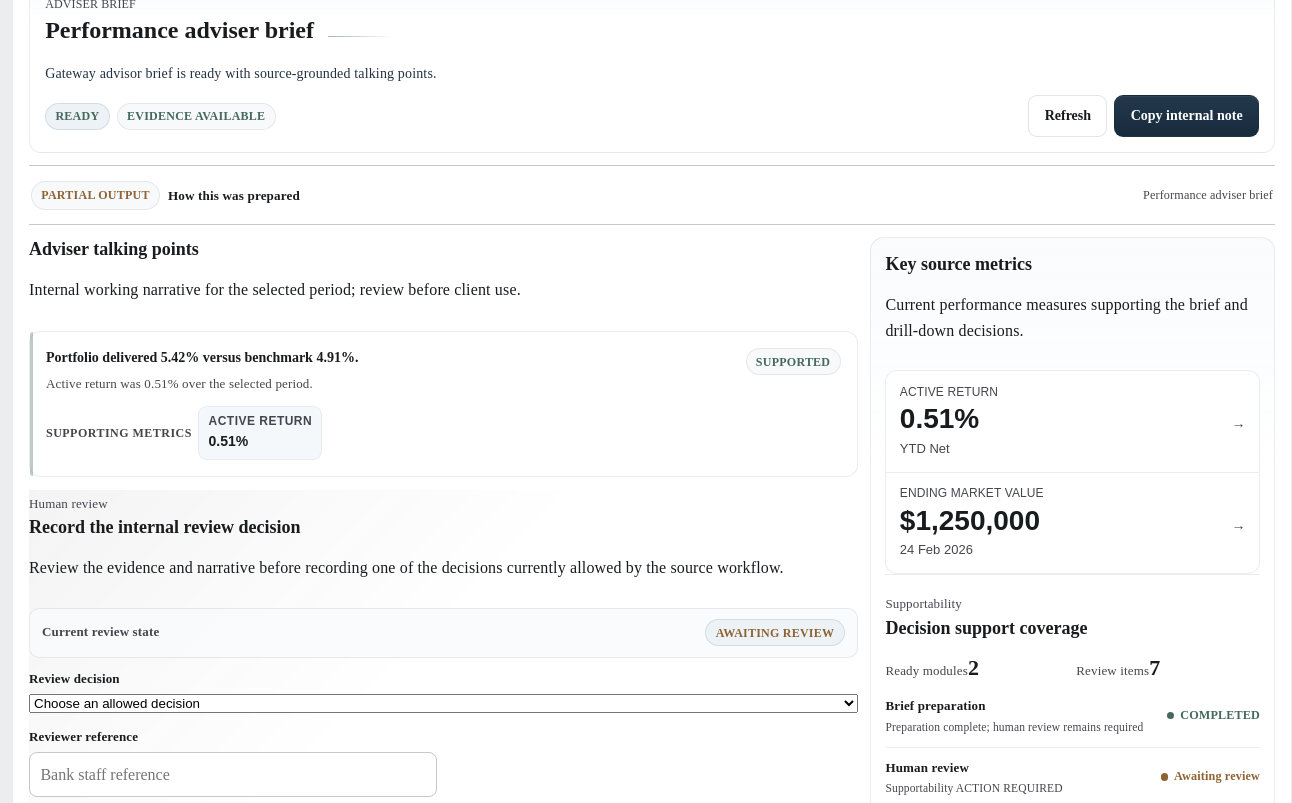
Test: PerformanceAdvisorBriefMode › records a bounded review action and refreshes the run posture in place
This screenshot has width=1292, height=803.
Select "Accept for internal use" in the dropdown labelled "Review decision" at (443, 704), box left=29, top=694, right=858, bottom=713
(page scrolled)
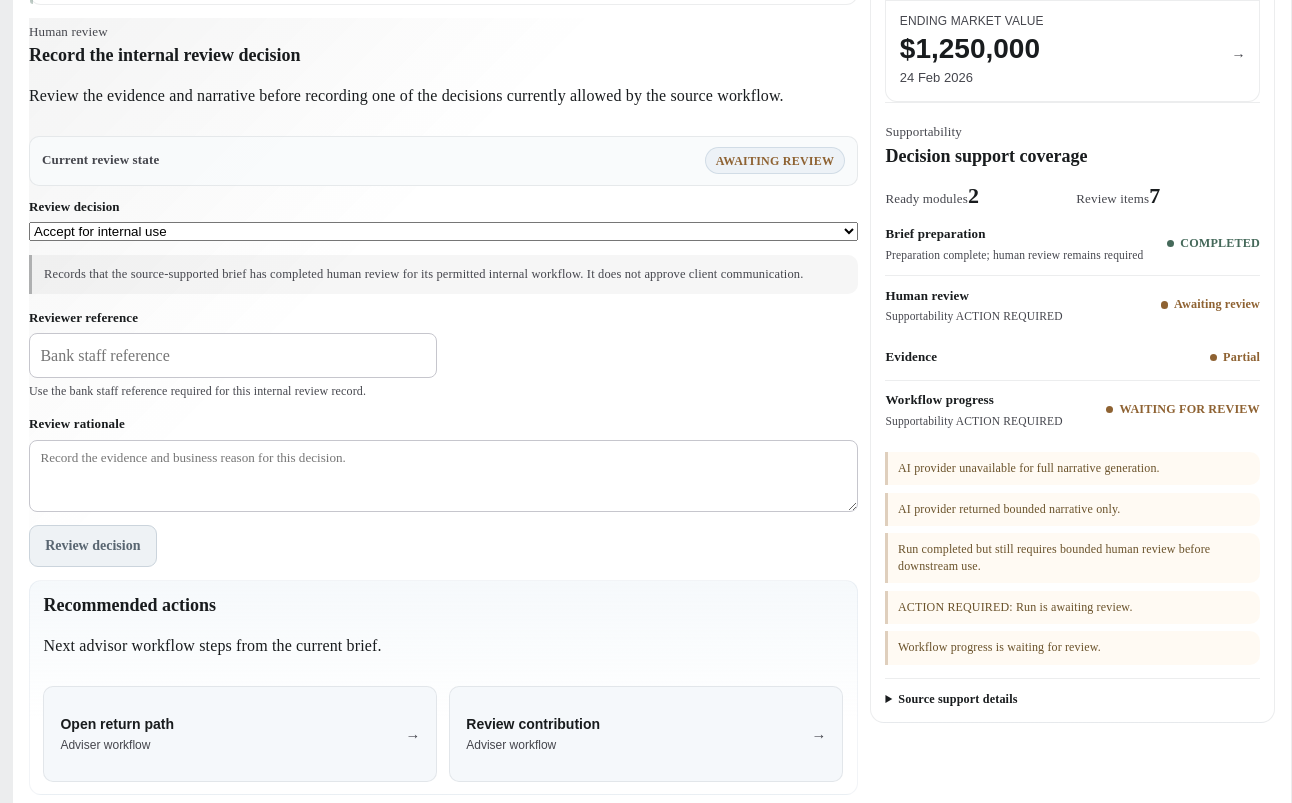
Type "advisor_1" into the field labelled "Reviewer reference" at (233, 356), box left=29, top=333, right=437, bottom=378
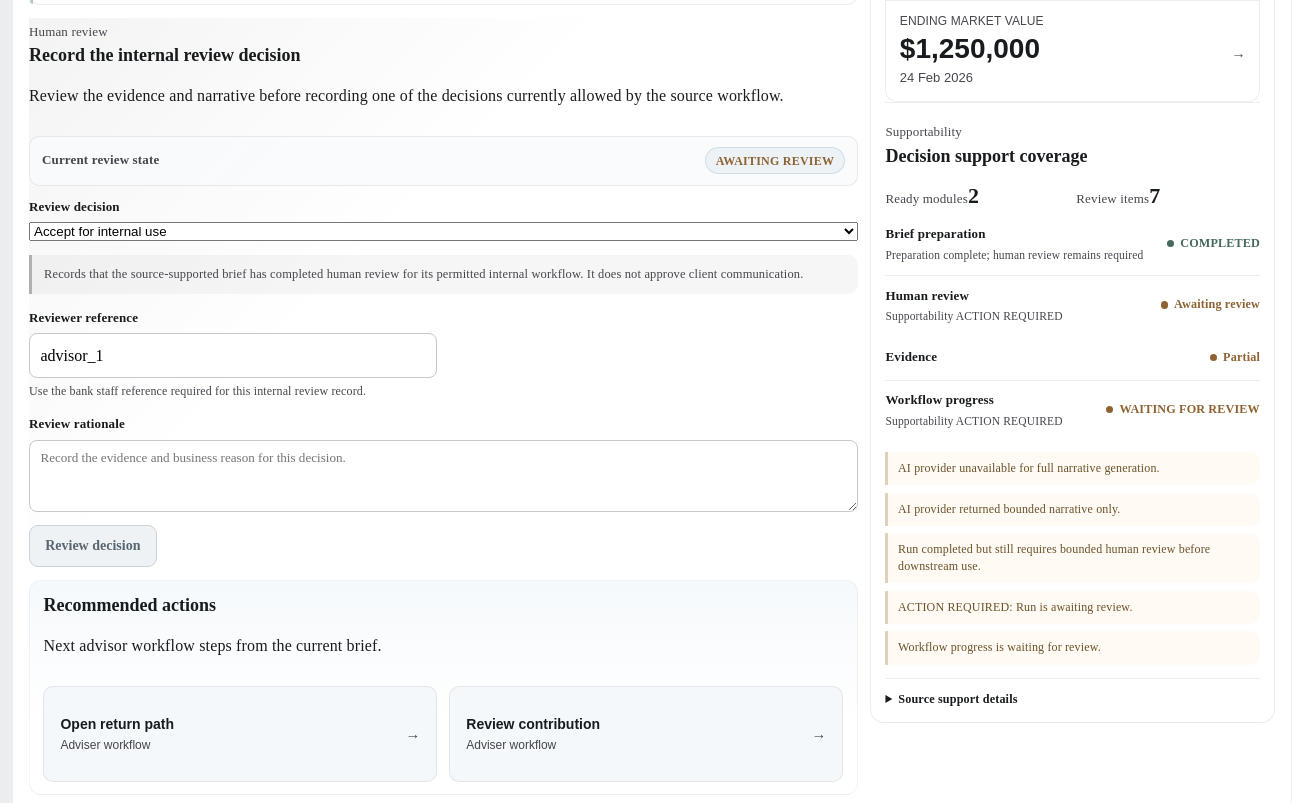
Type "Advisor brief accepted for bounded downstream workflow use." into the text box labelled "Review rationale" at (443, 476), box left=29, top=440, right=858, bottom=512
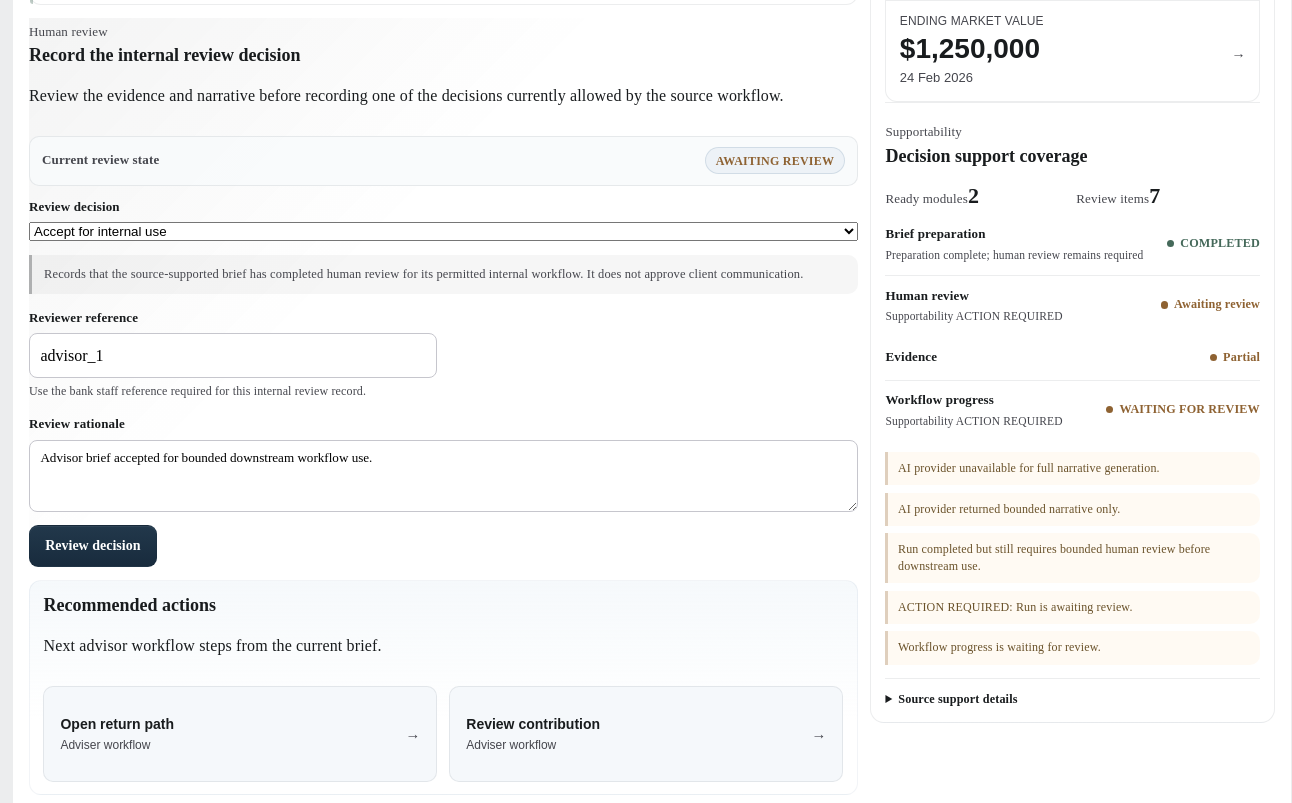
Click the button "Review decision" at (93, 546), box left=29, top=525, right=157, bottom=567
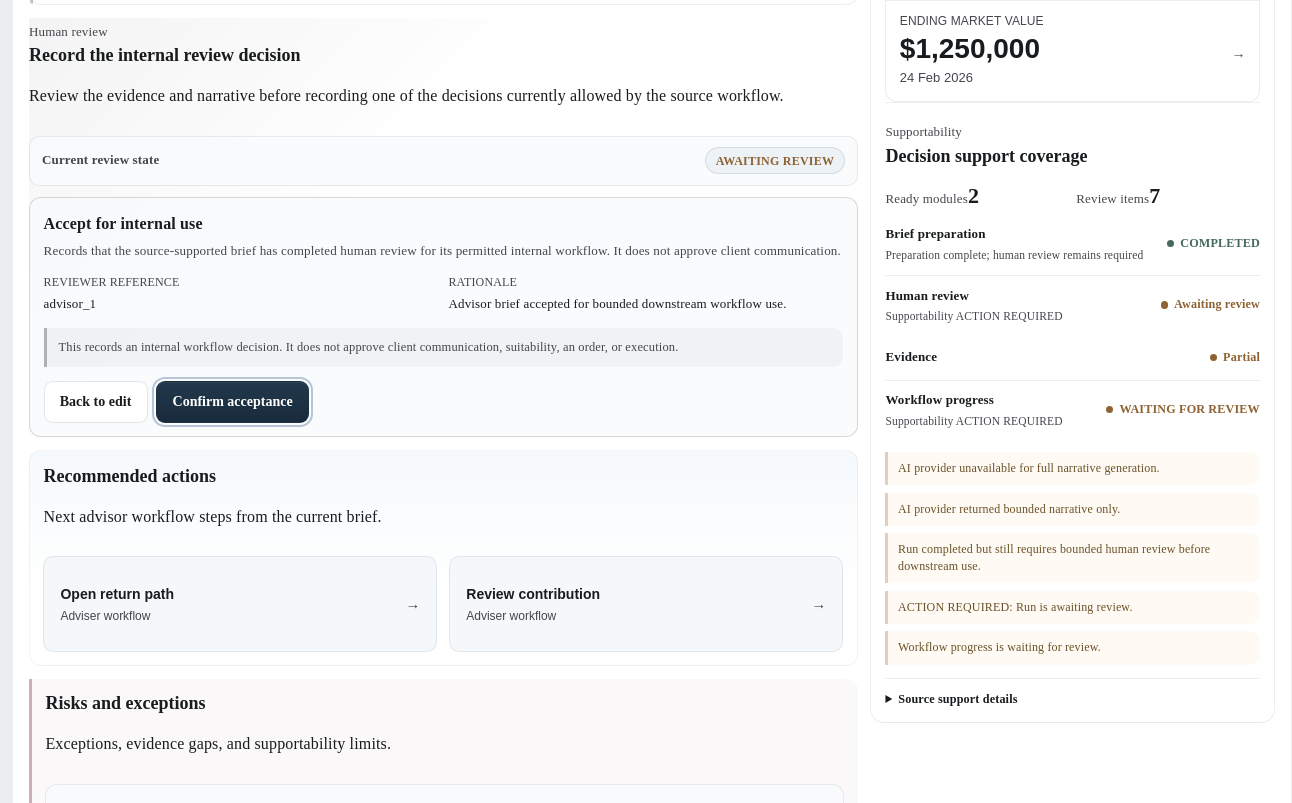
Now the text "Accept for internal use" is shown, box left=44, top=215, right=203, bottom=232
Now the text "does not approve client communication" is shown 2 times, box left=44, top=241, right=843, bottom=260; left=44, top=328, right=843, bottom=367
Click the button "Confirm acceptance" at (233, 402), box left=156, top=381, right=309, bottom=423
(page scrolled)
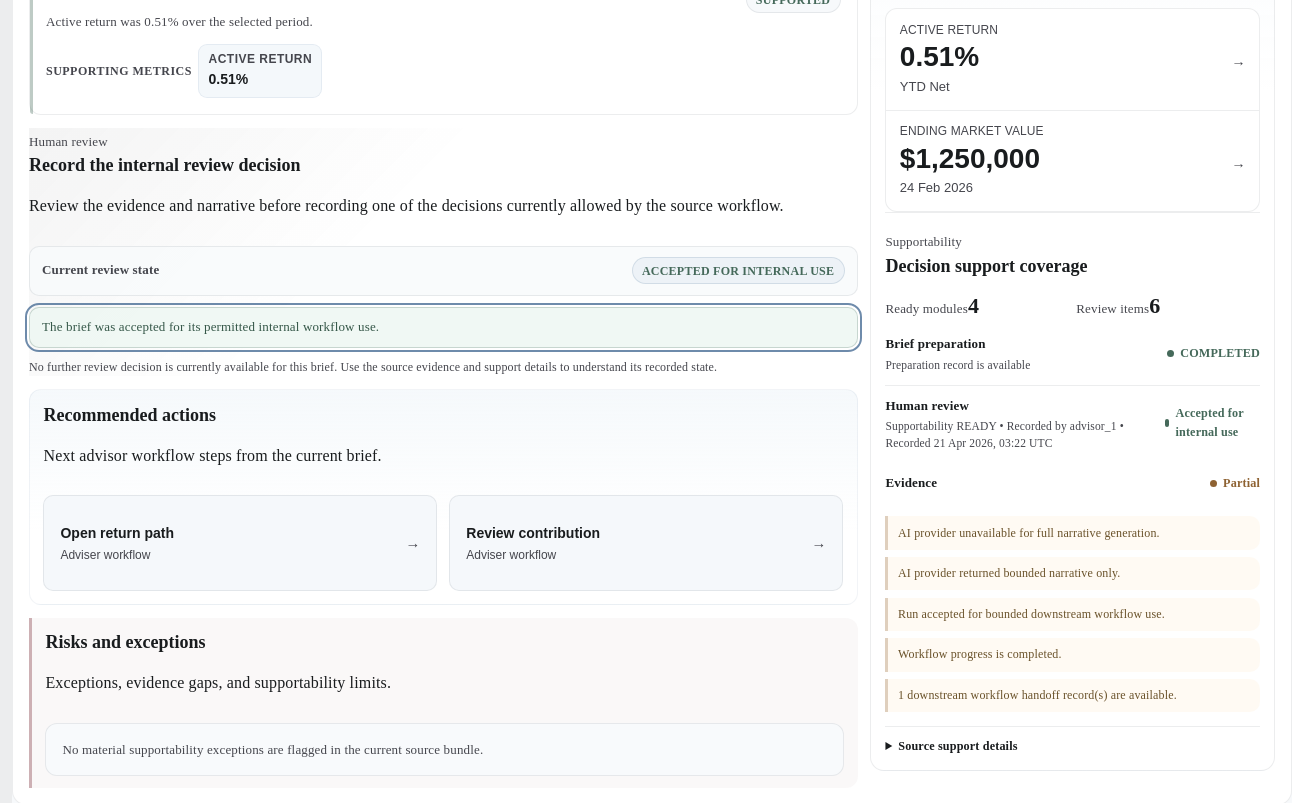
Now the element named "Adviser brief supportability" shows "Accepted for internal use", box left=1176, top=406, right=1244, bottom=439
Now the element named "Adviser brief supportability" shows "Recorded by advisor_1", box left=885, top=420, right=1124, bottom=448
Now the element named "Adviser brief supportability" shows "Recorded 21 Apr 2026, 03:22 UTC", box left=885, top=420, right=1124, bottom=448
